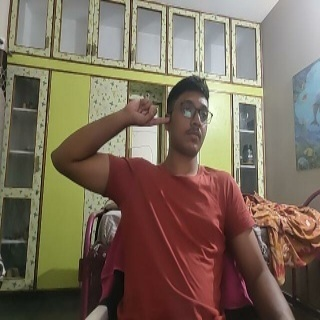Deaf: (123, 95, 171, 128)
Face: (165, 74, 210, 159)
